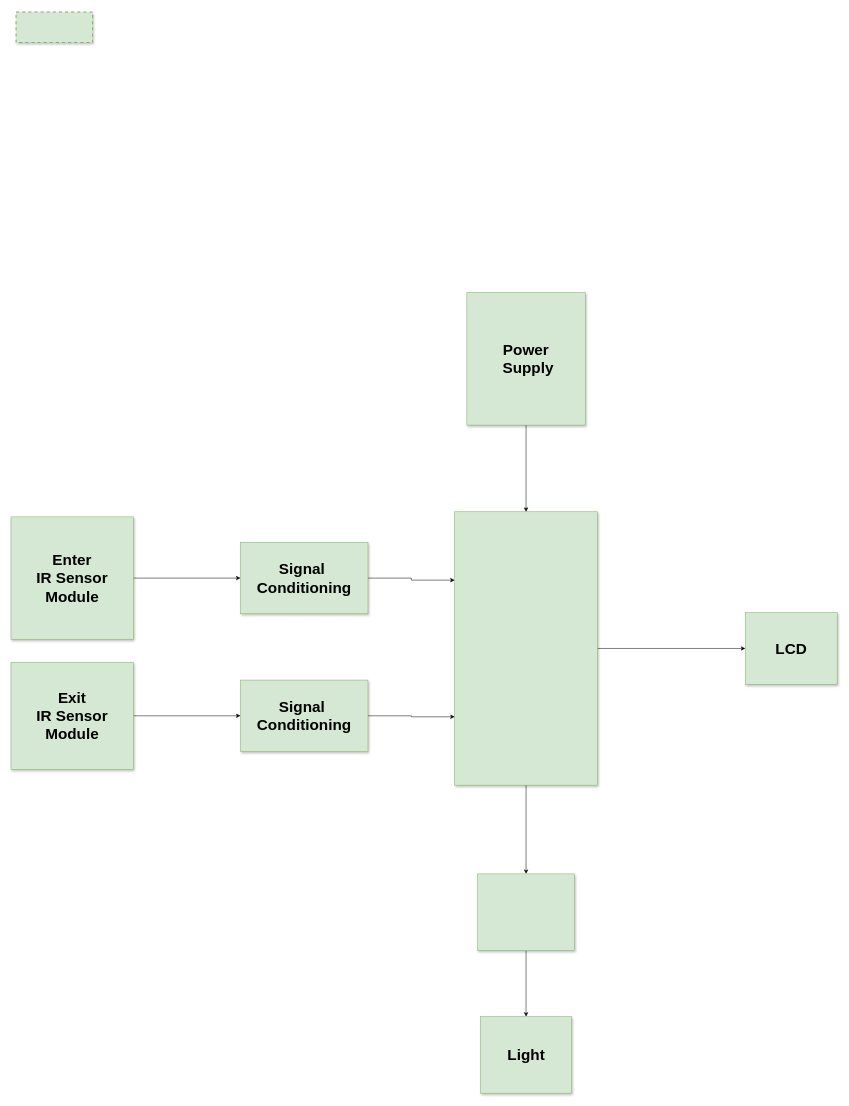
Image size: 849x1106. Some labels were removed from this diagram. Each missing label, with the centre of its shape:
Micro-Controller: (526,649)
Relay: (526,912)
Software Control: (54,27)
